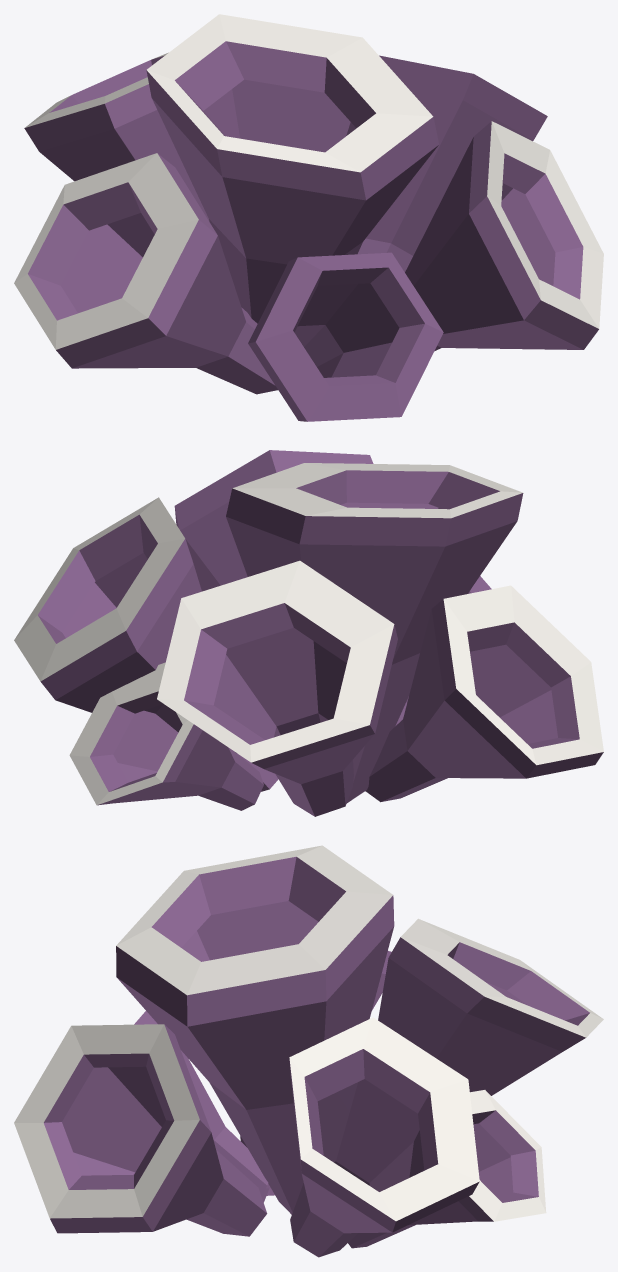
File: SeaObj07.fbx
The picture shows the model from 3 angles, top to bottom: view 1: azimuth 30°, elevation 25°; view 2: azimuth 150°, elevation 25°; view 3: azimuth 270°, elevation 25°; orthographic projection. The views are drawn at different scales.
Parts seen in each view (by area): view 1: Plane.034; view 2: Plane.034; view 3: Plane.034.
Boxes of the visible parts, box(x1,y1,x2,y2) form: Plane.034: box(14, 14, 603, 421); Plane.034: box(14, 450, 603, 816); Plane.034: box(14, 845, 603, 1257).
Size of the model in its own units: 214 by 127 by 215.
